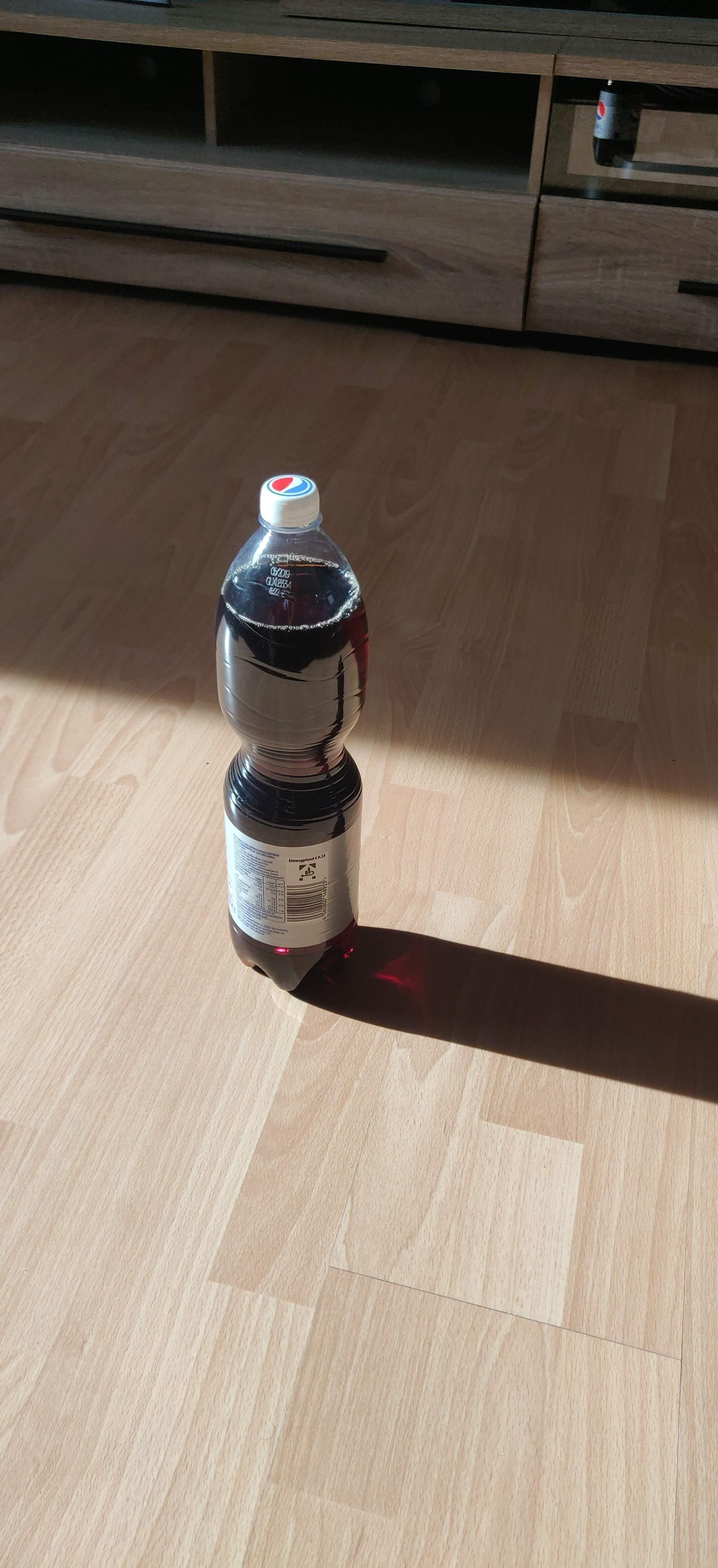bottle-plastic: (212, 469, 367, 995)
